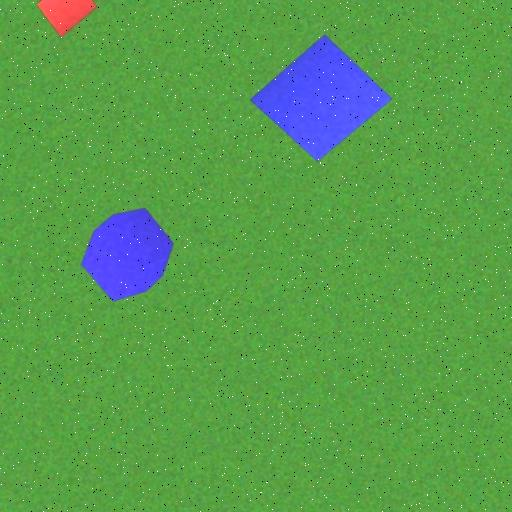BLUE_SQUARE: (250, 34, 392, 162)
RED_SQUARE: (35, 0, 98, 38)
